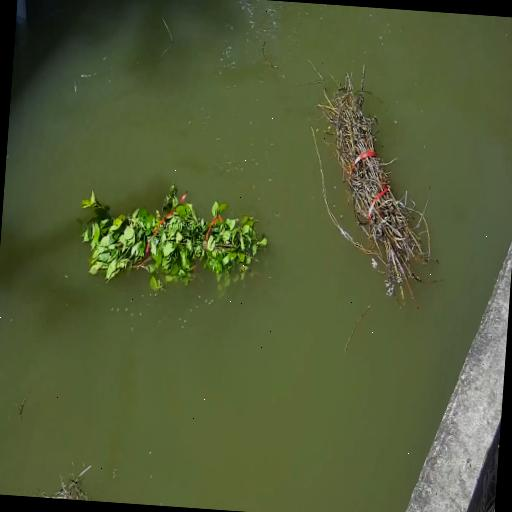twig: (311, 76, 430, 301), (82, 184, 267, 290), (42, 475, 89, 501)
